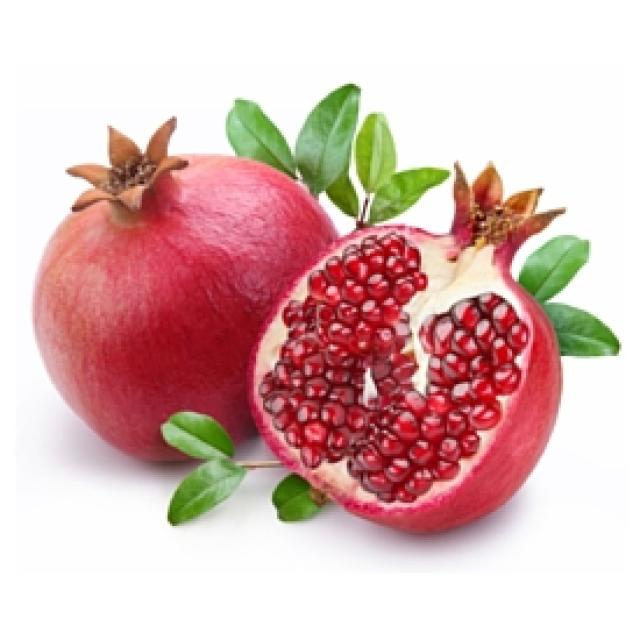pomegranate: (32, 112, 346, 472)
